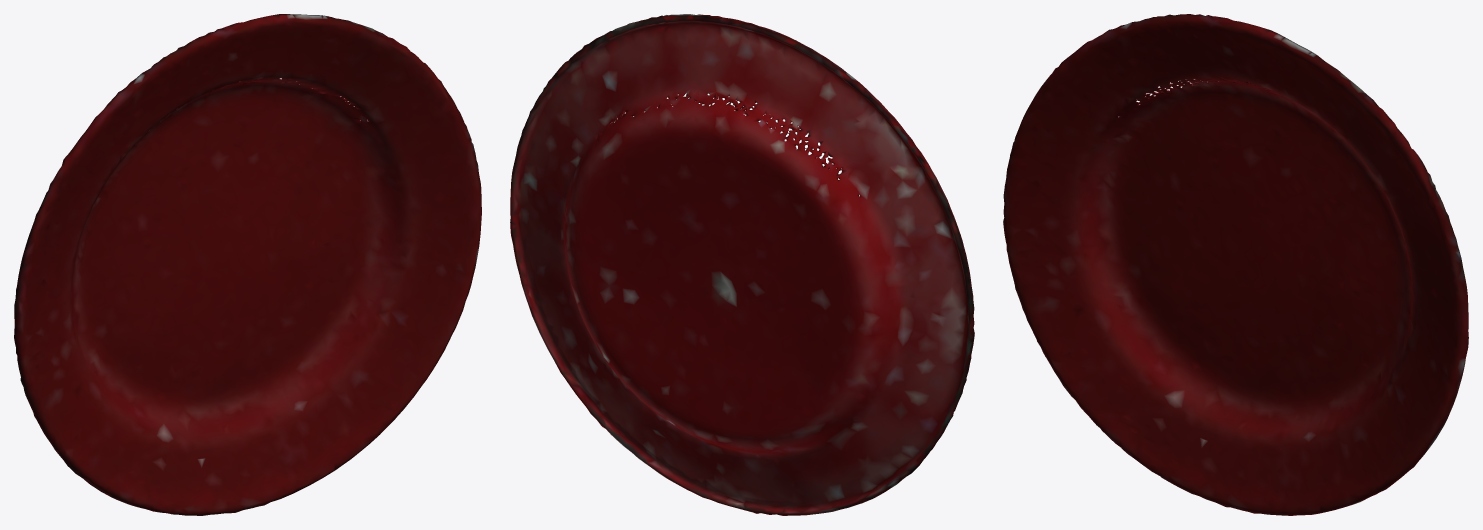
3 views of the same model, side by side, from view 1: azimuth 30°, elevation 25°; view 2: azimuth 150°, elevation 25°; view 3: azimuth 330°, elevation 25° (orthographic).
Size of the model in its own units: 0.2601 by 0.2611 by 0.0267.
